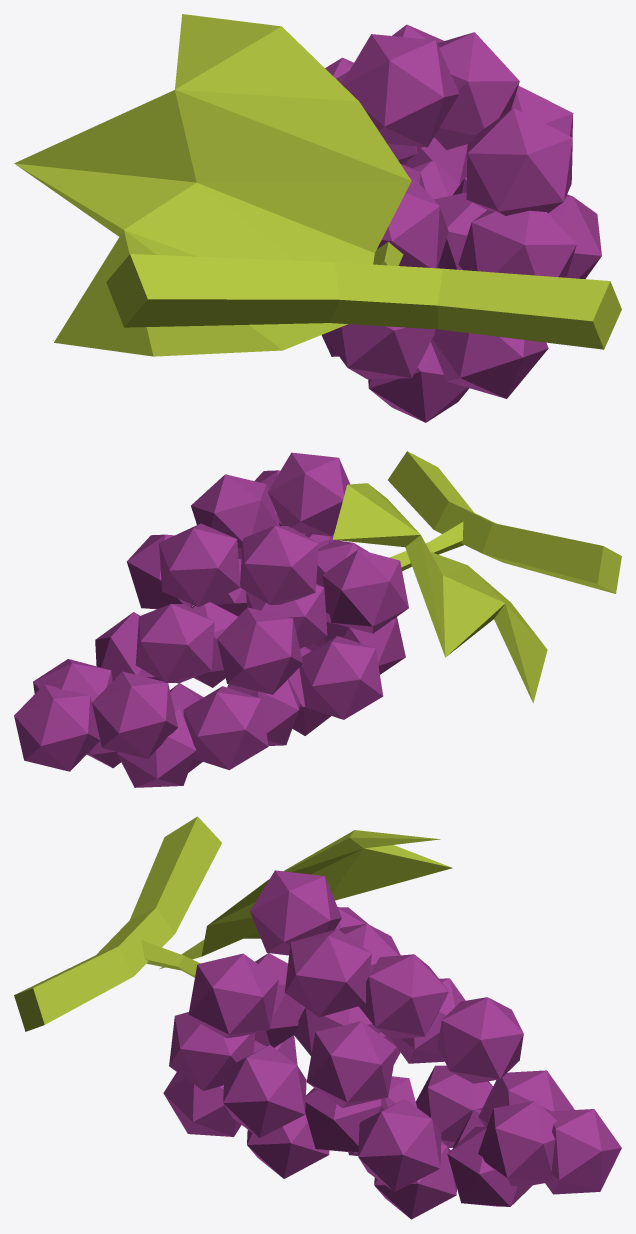
The model's file is grape.FBX.
The picture shows the model from 3 angles, top to bottom: view 1: azimuth 30°, elevation 25°; view 2: azimuth 150°, elevation 25°; view 3: azimuth 270°, elevation 25°; orthographic projection. The views are drawn at different scales.
Parts seen in each view (by area): view 1: grape; view 2: grape; view 3: grape.
Part boxes in pixels (x1,y1,x2,y2): grape: [14, 14, 621, 422]; grape: [14, 451, 621, 787]; grape: [14, 816, 621, 1219].
Bounding box in the file's own units: 3.46 × 2.29 × 4.14.
